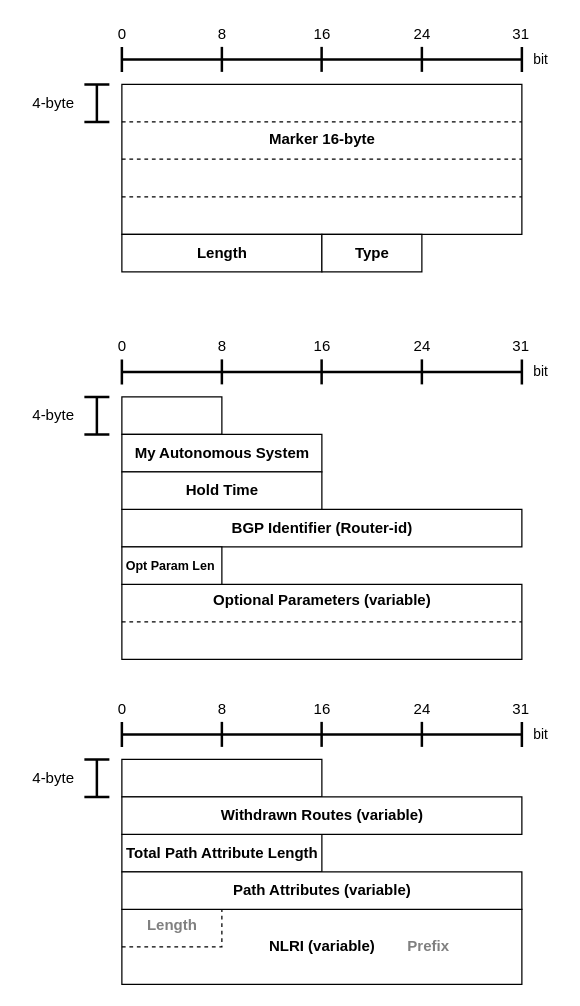
Image size: 580x1006. Some labels were removed from this diagram. Here are the shapes that lost their labels. From the top down, the box of each, then its label:
(121, 396, 222, 434): Version
(121, 758, 322, 797): Withdrawn Routes Length
